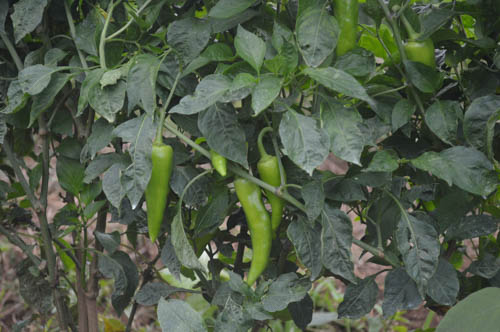ChiliPepper: (234, 177, 272, 292), (135, 145, 172, 244), (261, 157, 288, 228), (334, 2, 363, 60), (406, 36, 436, 71), (208, 151, 226, 177)
